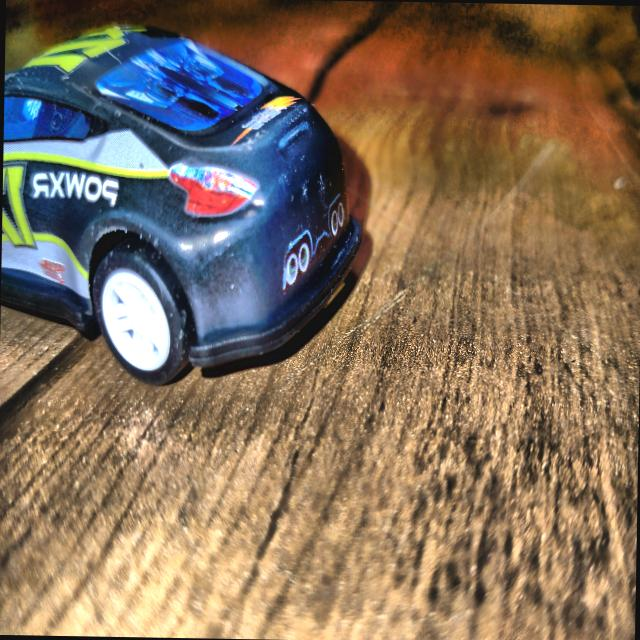Car: (0, 25, 364, 387)
